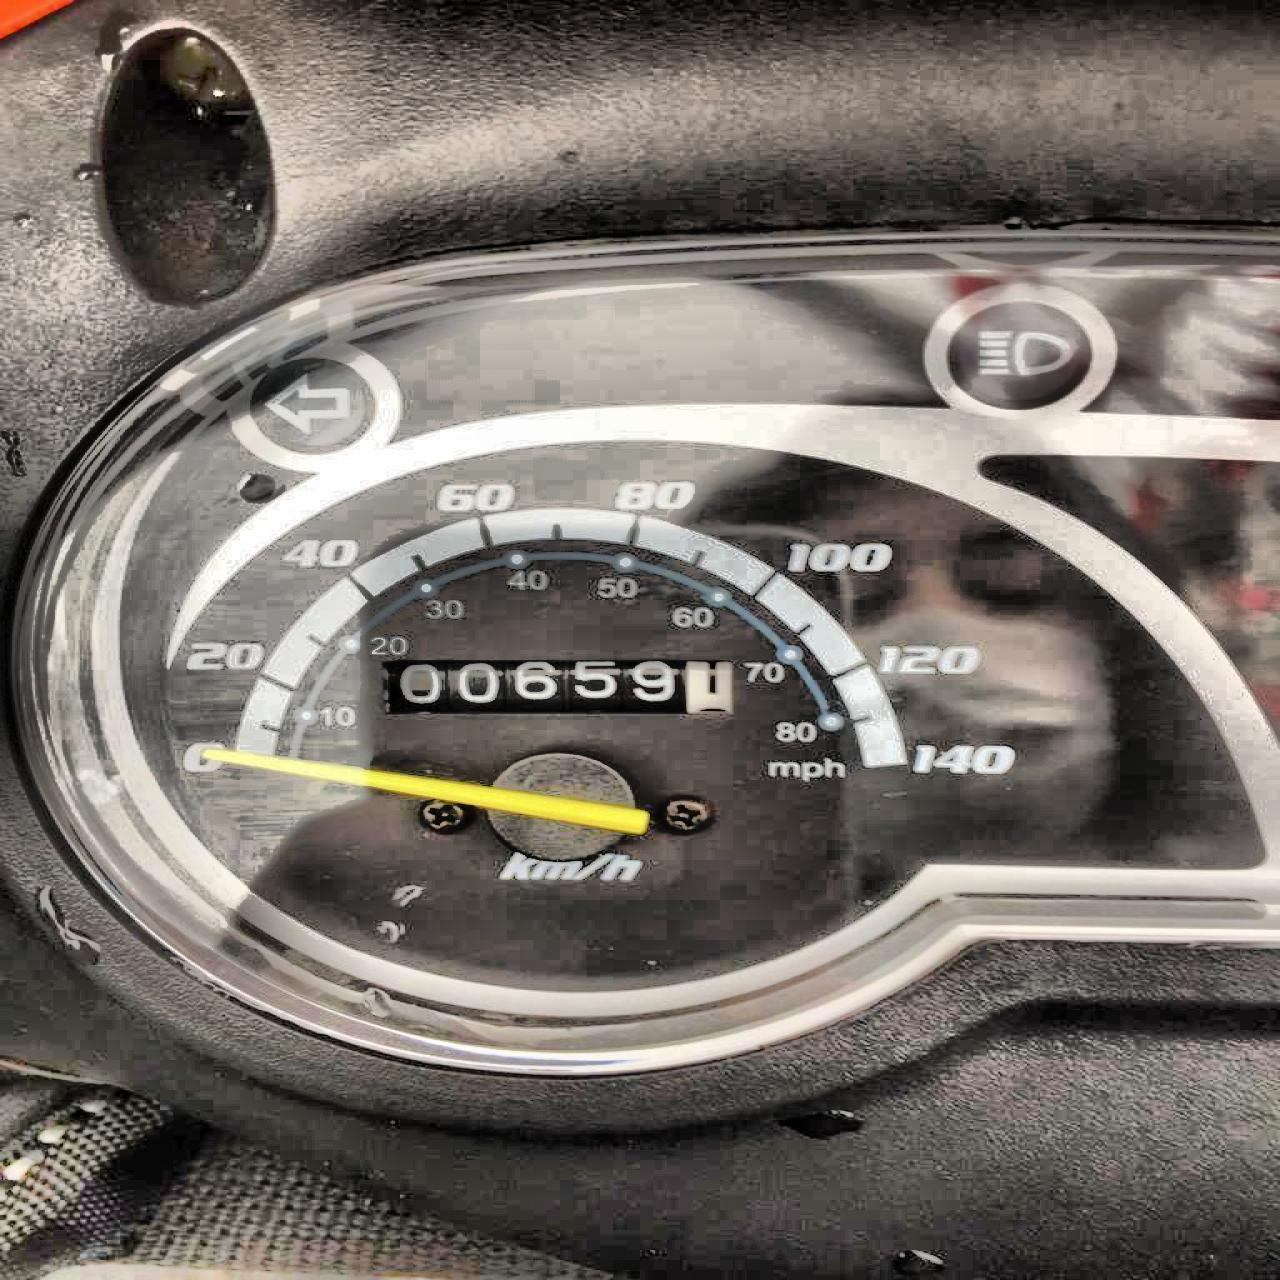0: (392, 658, 445, 704), (451, 658, 501, 707)
1: (699, 658, 729, 697)
5: (570, 656, 617, 702)
6: (512, 658, 560, 702)
9: (628, 660, 679, 706)
odometer: (379, 652, 738, 720)
